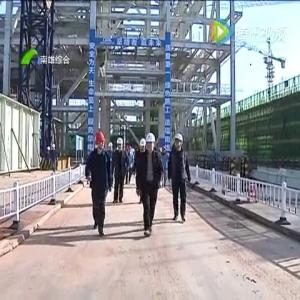red: (96, 132, 107, 150)
white: (147, 132, 157, 153), (174, 133, 184, 151), (140, 138, 147, 152), (117, 138, 124, 150)
